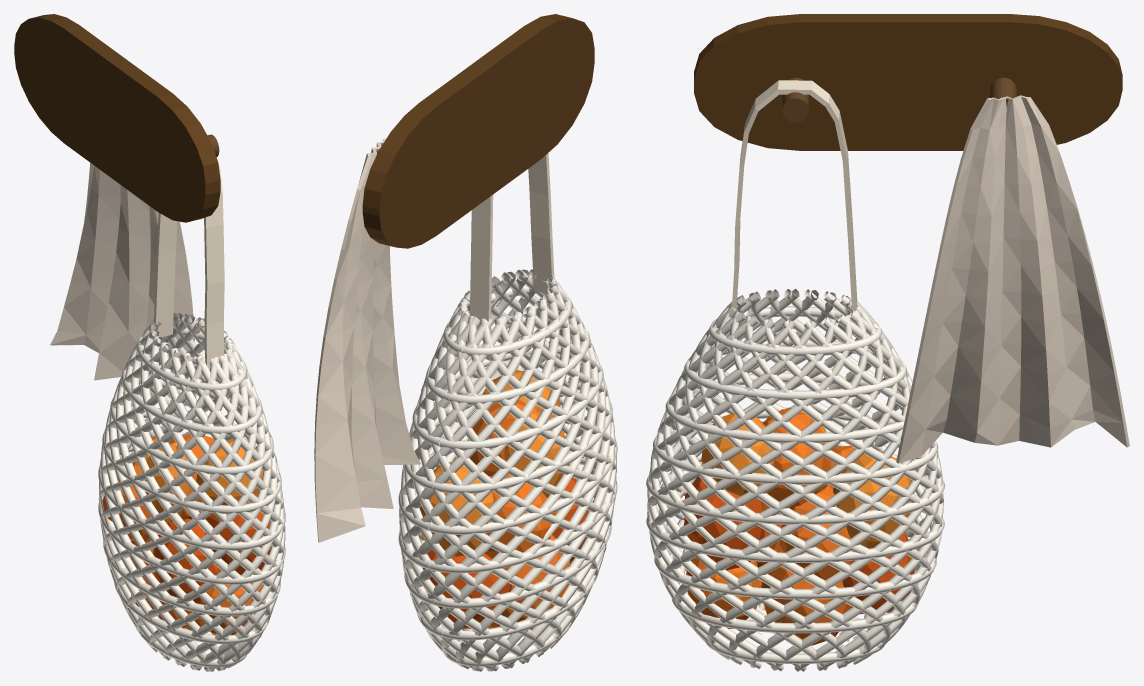
The model's file is Perchero final.fbx.
The picture shows the model from 3 angles, left to right: view 1: azimuth 30°, elevation 25°; view 2: azimuth 150°, elevation 25°; view 3: azimuth 270°, elevation 25°; orthographic projection. The views are drawn at different scales.
Parts seen in each view (by area): view 1: Red diagonal 0_01, Cube, Trapo_LowPoly, Plane, Mandarina low poly 12, Mandarina low poly 07, Mandarina low poly 09, Mandarina low poly 14, Mandarina low poly 04, Mandarina low poly 13, Mandarina low poly 08; view 2: Red diagonal 0_01, Cube, Trapo_LowPoly, Plane, Mandarina low poly 10, Mandarina low poly 13, Mandarina low poly 03, Mandarina low poly 08, Mandarina low poly 14, Mandarina low poly 11; view 3: Red diagonal 0_01, Trapo_LowPoly, Cube, Plane, Mandarina low poly 07, Mandarina low poly 10, Mandarina low poly 08, Mandarina low poly 05, Mandarina low poly 06, Mandarina low poly 09, Mandarina low poly 04, Mandarina low poly 03 (+1 smaller).
Boxes of the visible parts, <box> form: Red diagonal 0_01: <box>98,312,285,671</box>; Cube: <box>14,14,220,222</box>; Trapo_LowPoly: <box>50,163,196,406</box>; Plane: <box>154,162,224,370</box>; Mandarina low poly 12: <box>153,518,220,603</box>; Mandarina low poly 07: <box>205,502,271,574</box>; Mandarina low poly 09: <box>196,439,262,505</box>; Mandarina low poly 14: <box>142,442,189,523</box>; Mandarina low poly 04: <box>198,583,263,634</box>; Mandarina low poly 13: <box>102,464,151,541</box>; Mandarina low poly 08: <box>169,434,214,519</box>; Red diagonal 0_01: <box>398,269,617,671</box>; Cube: <box>362,14,594,248</box>; Trapo_LowPoly: <box>314,138,420,542</box>; Plane: <box>469,153,554,340</box>; Mandarina low poly 10: <box>419,462,493,556</box>; Mandarina low poly 13: <box>485,474,552,566</box>; Mandarina low poly 03: <box>422,549,511,628</box>; Mandarina low poly 08: <box>468,399,539,476</box>; Mandarina low poly 14: <box>504,412,569,497</box>; Mandarina low poly 11: <box>501,535,570,629</box>; Red diagonal 0_01: <box>646,288,944,671</box>; Trapo_LowPoly: <box>896,95,1129,463</box>; Cube: <box>694,14,1122,150</box>; Plane: <box>732,80,857,311</box>; Mandarina low poly 07: <box>684,477,765,570</box>; Mandarina low poly 10: <box>833,450,911,548</box>; Mandarina low poly 08: <box>762,409,831,514</box>; Mandarina low poly 05: <box>761,540,850,645</box>; Mandarina low poly 06: <box>779,485,852,580</box>; Mandarina low poly 09: <box>701,413,774,495</box>; Mandarina low poly 04: <box>686,557,761,628</box>; Mandarina low poly 03: <box>842,532,914,614</box>.
Size of the model in its own units: 31.36 by 122 by 85.97.
10 materials, 3 textured.
